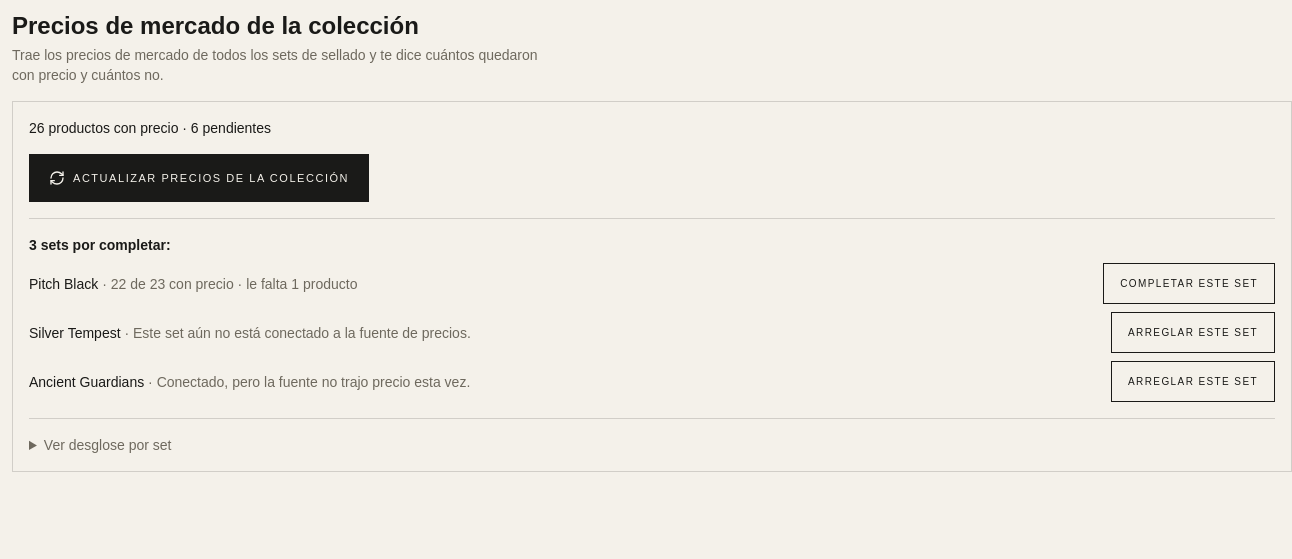
Scenario: SealedPriceStatusSection · Precios de mercado de la colección (§diseño §2/§3) › M11-refresh-source-on: con la fuente encendida el botón dispara la ingesta SIN confirmar ni tocar settings
Click the button "Actualizar precios de la colección": coordinates (199, 178) x1=29 y1=154 x2=369 y2=202
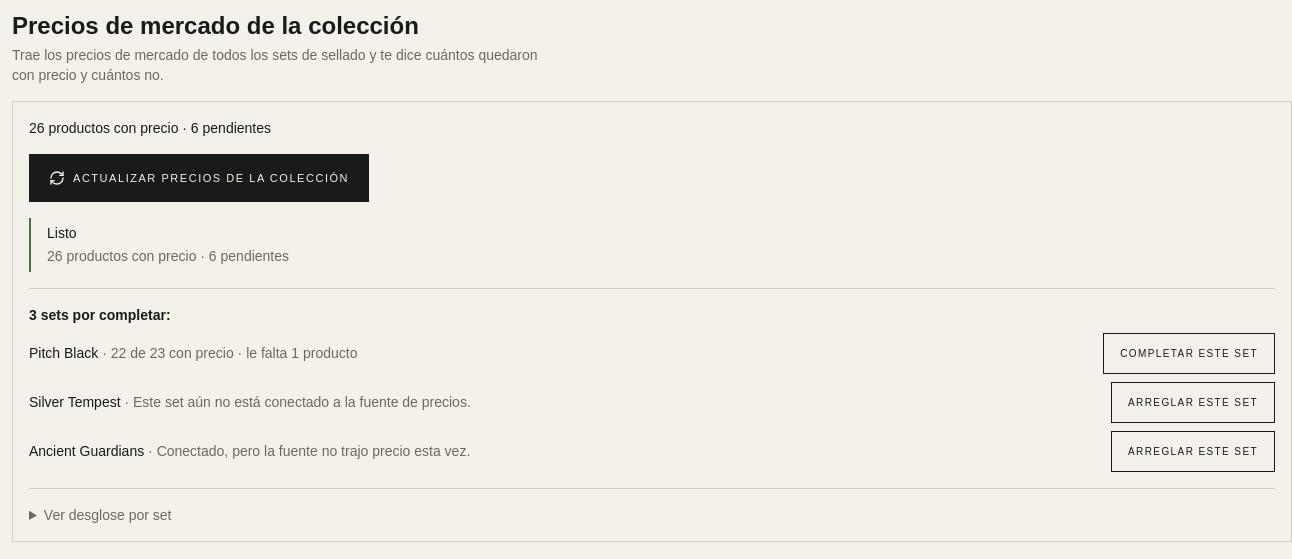
Check: the text "Listo" is shown, box x1=47 y1=225 x2=77 y2=241
